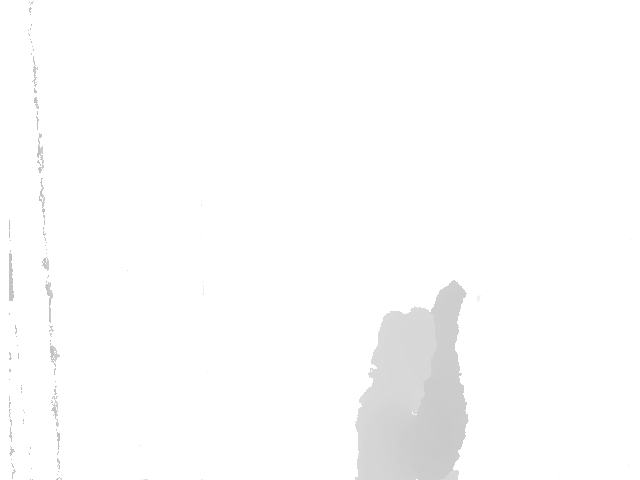hand: (428, 278, 468, 370)
head: (369, 306, 440, 394)
person: (352, 277, 471, 480)
